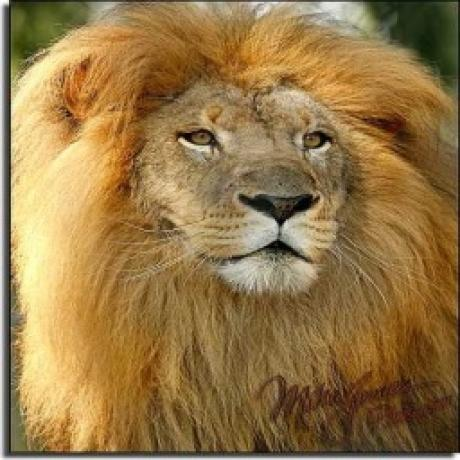Lion: (9, 0, 460, 456)
